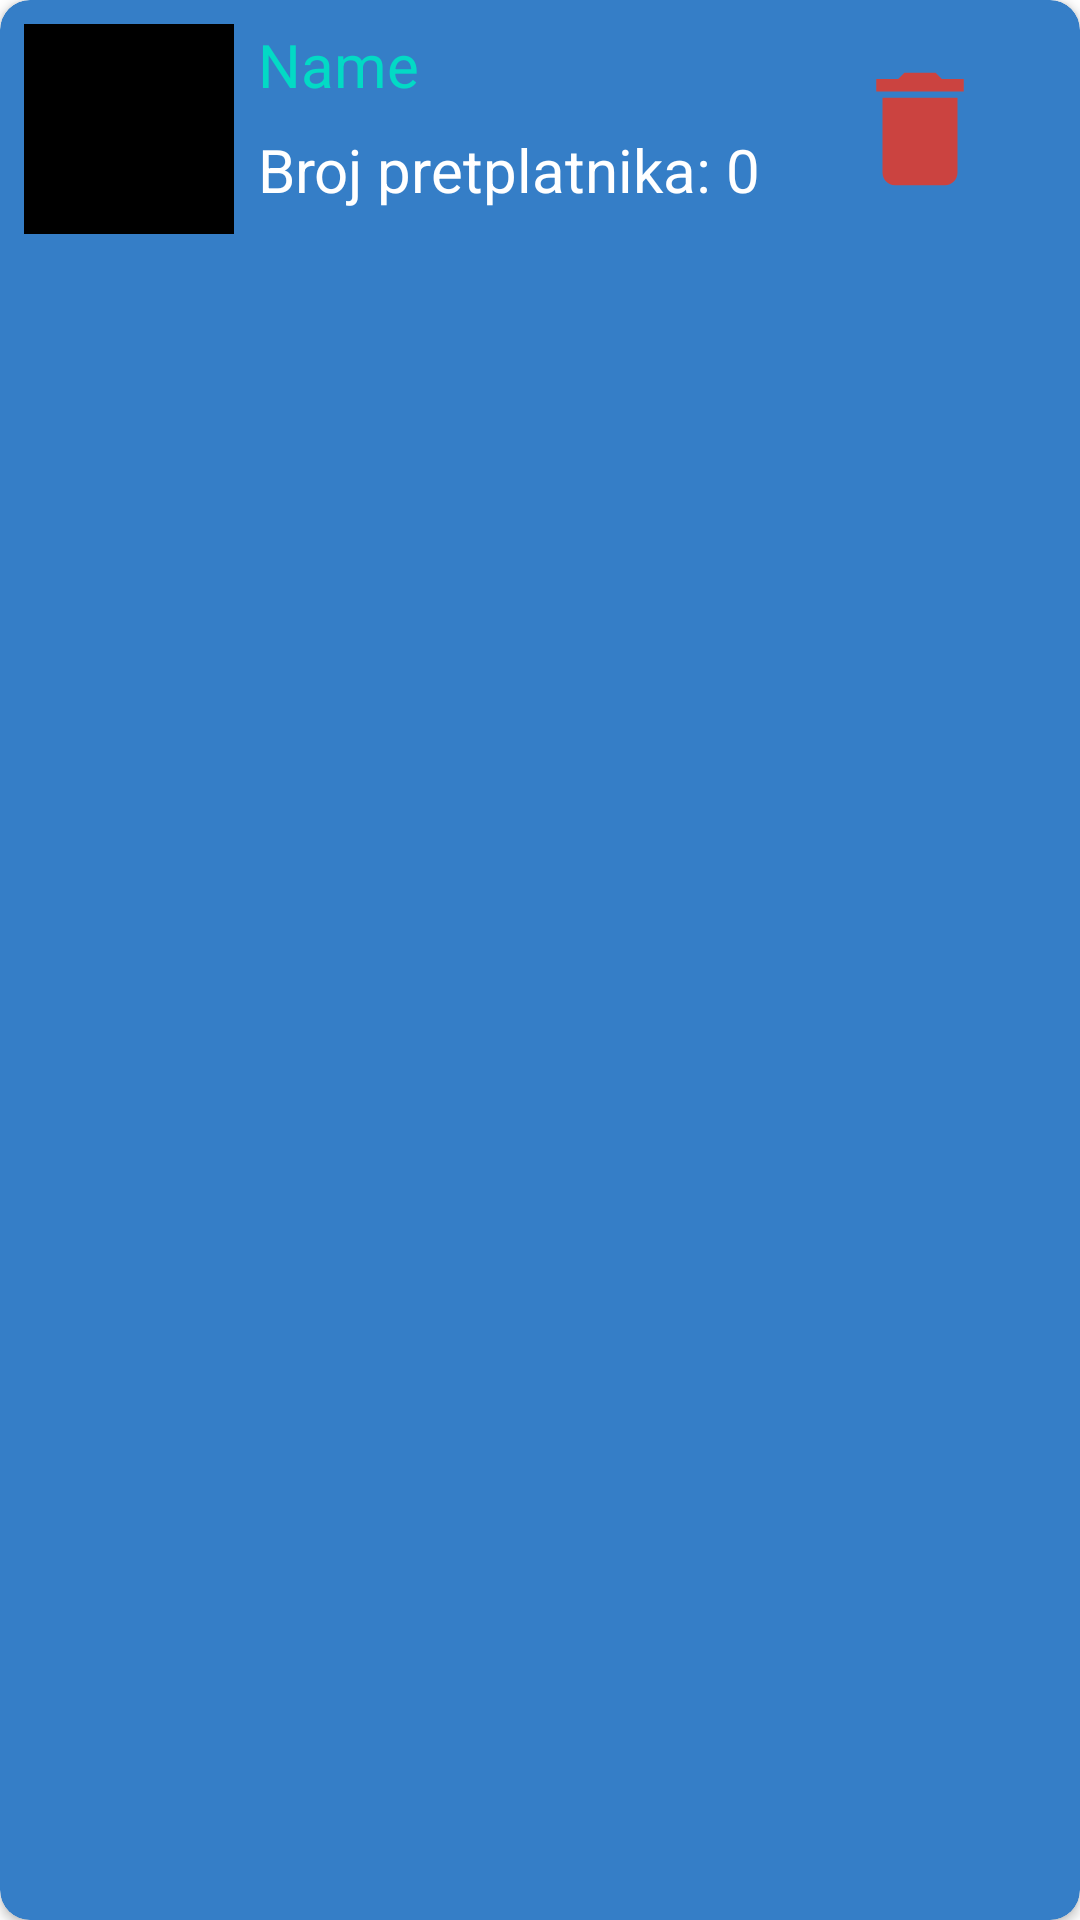

Point at icon controls on the screen. Image size 1080 × 1920, points as [x,y].
delete: [920,129]
